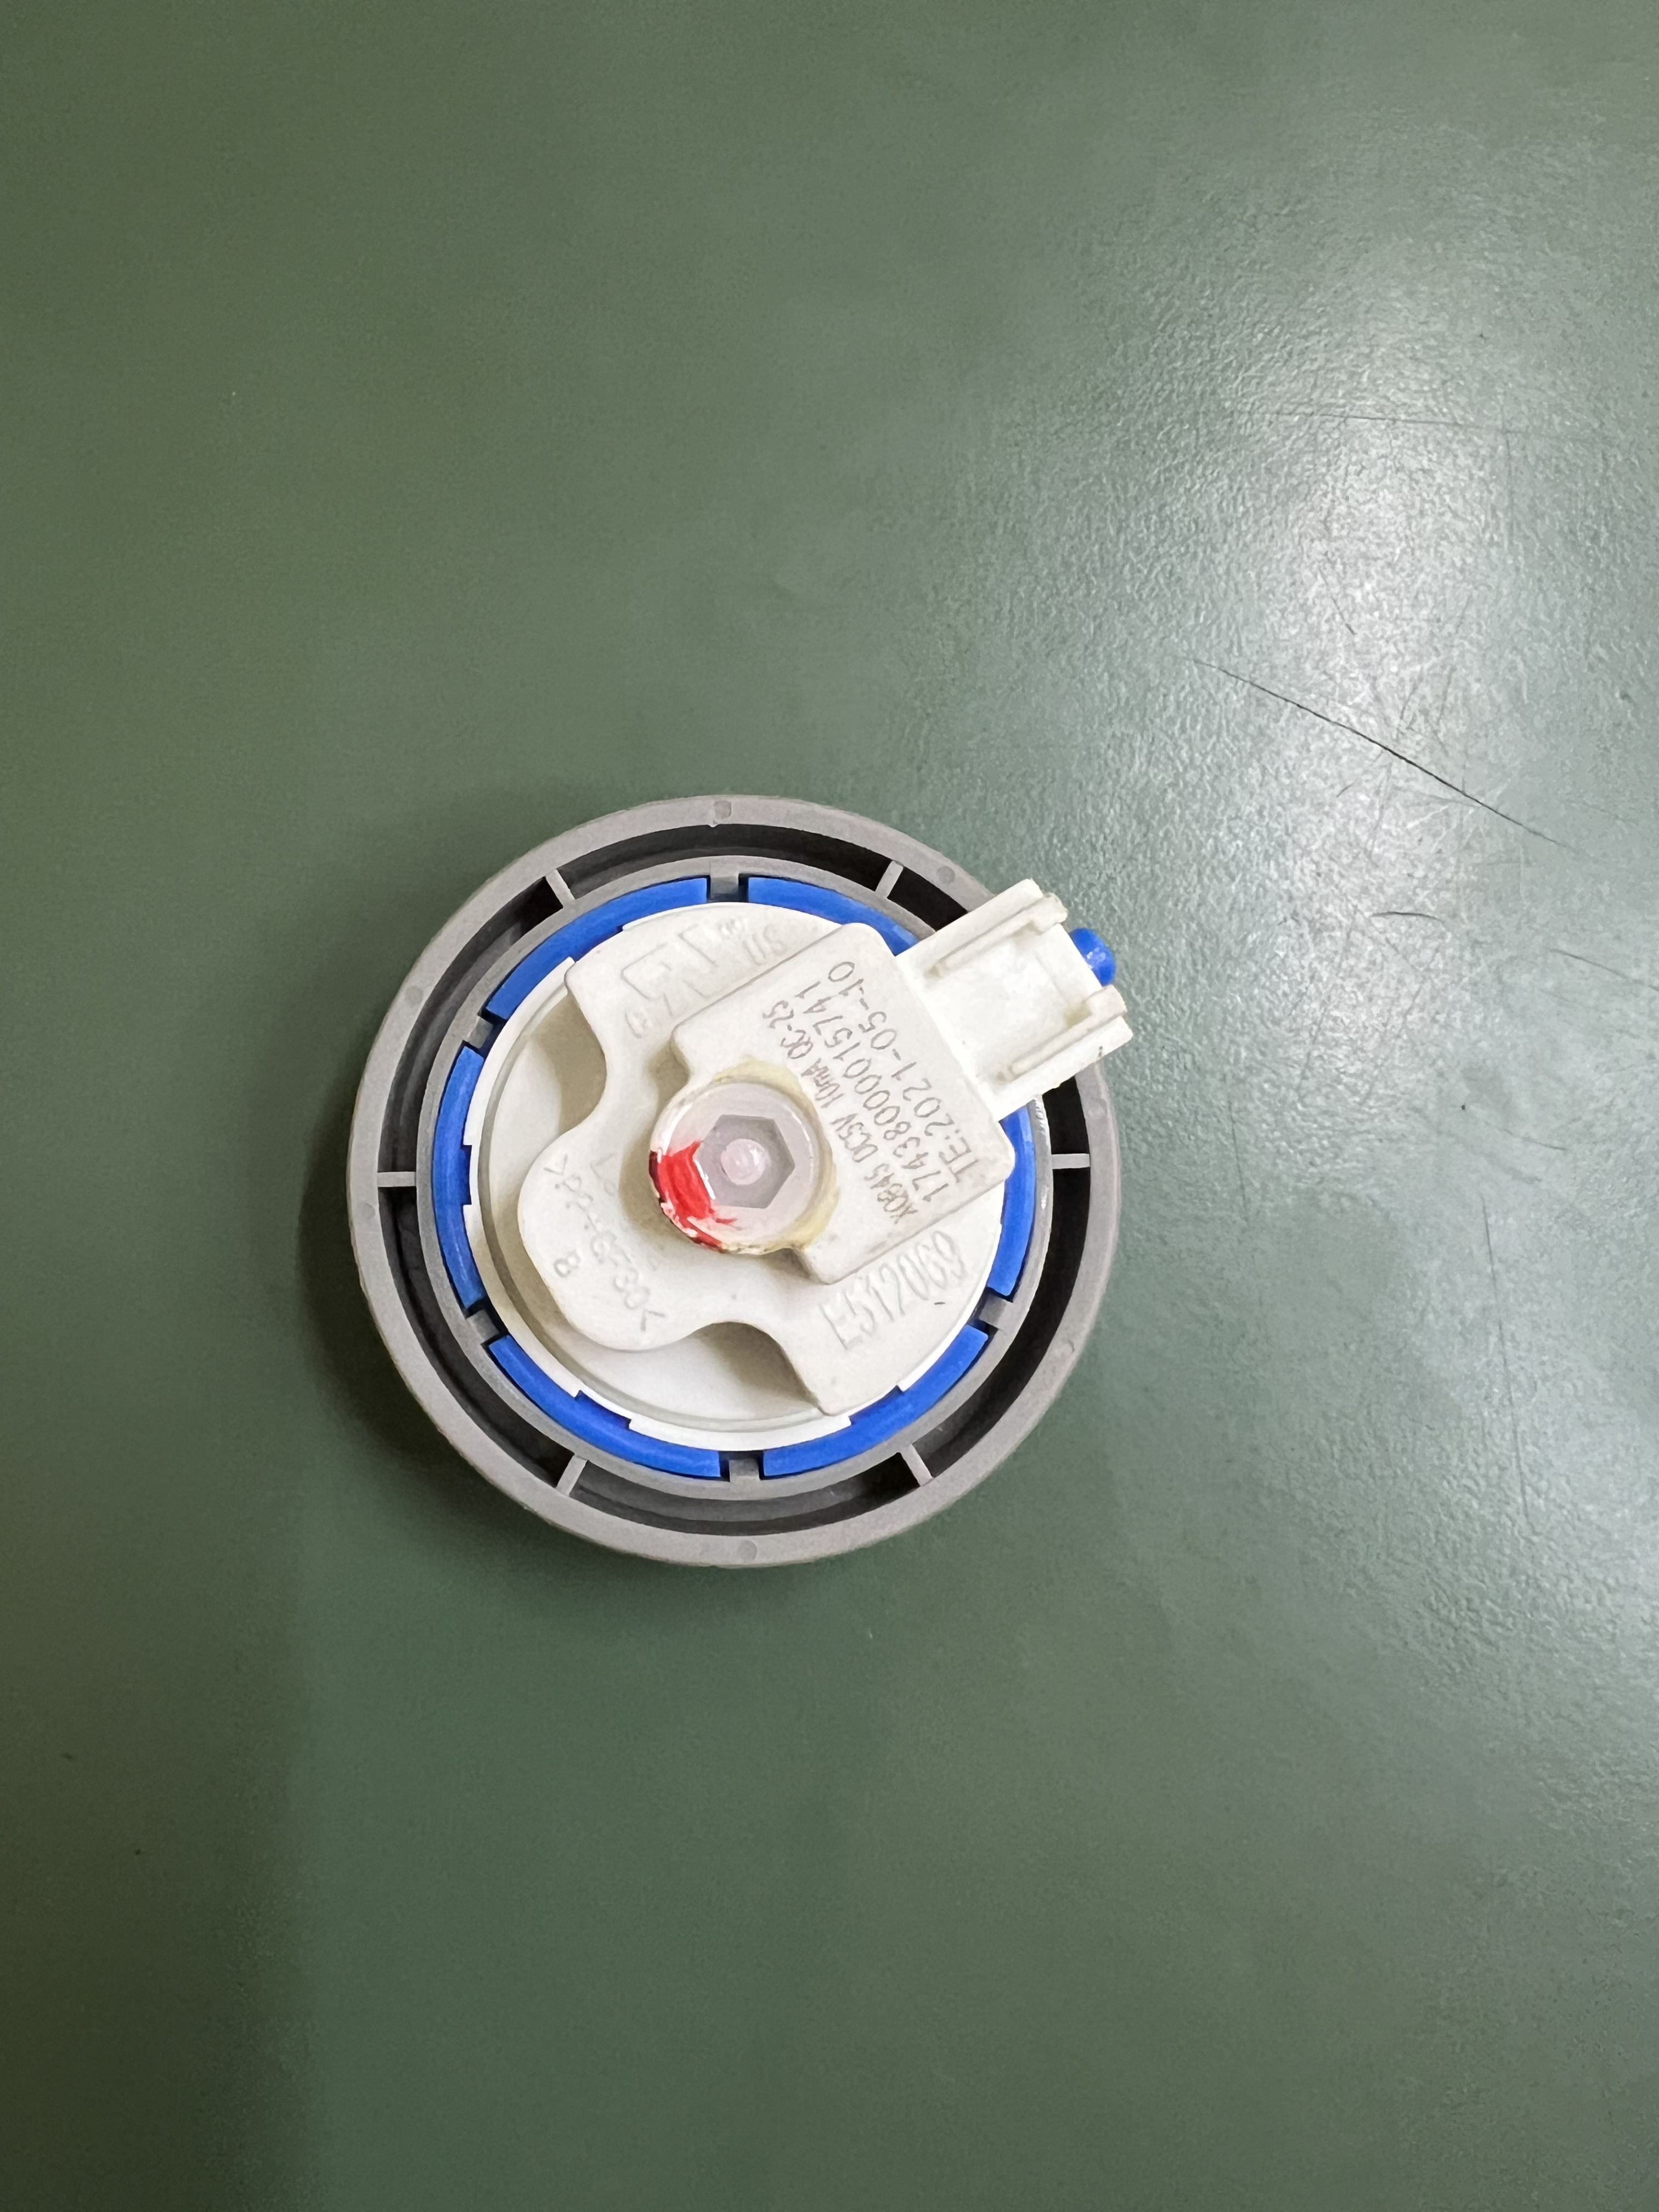pressure_sensor: (345, 808, 1171, 1587)
